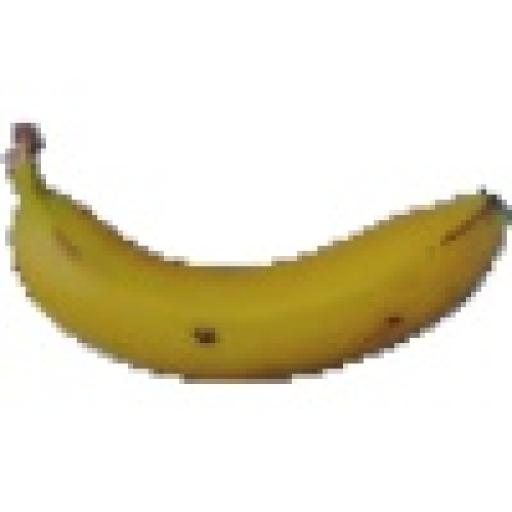banana: (11, 128, 506, 378)
